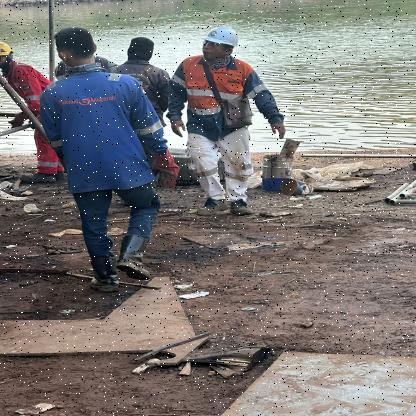bota: (118, 230, 160, 286), (81, 253, 121, 290), (19, 166, 61, 188), (194, 194, 230, 216), (224, 198, 254, 219)
